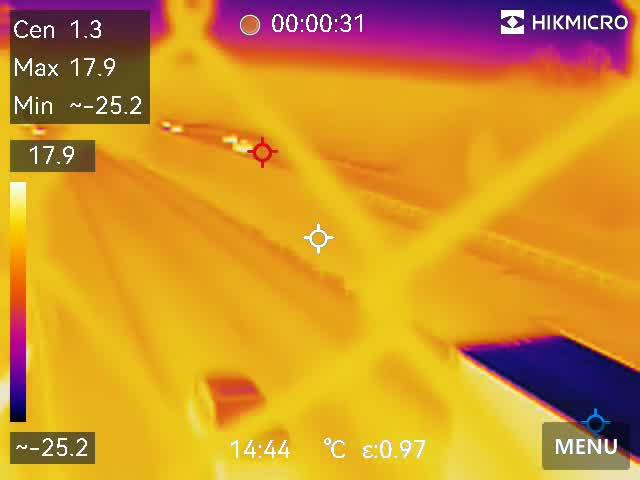smallCar: (190, 364, 286, 480)
vehicle: (234, 137, 253, 155), (222, 127, 237, 145), (155, 116, 172, 130), (169, 124, 184, 135)
